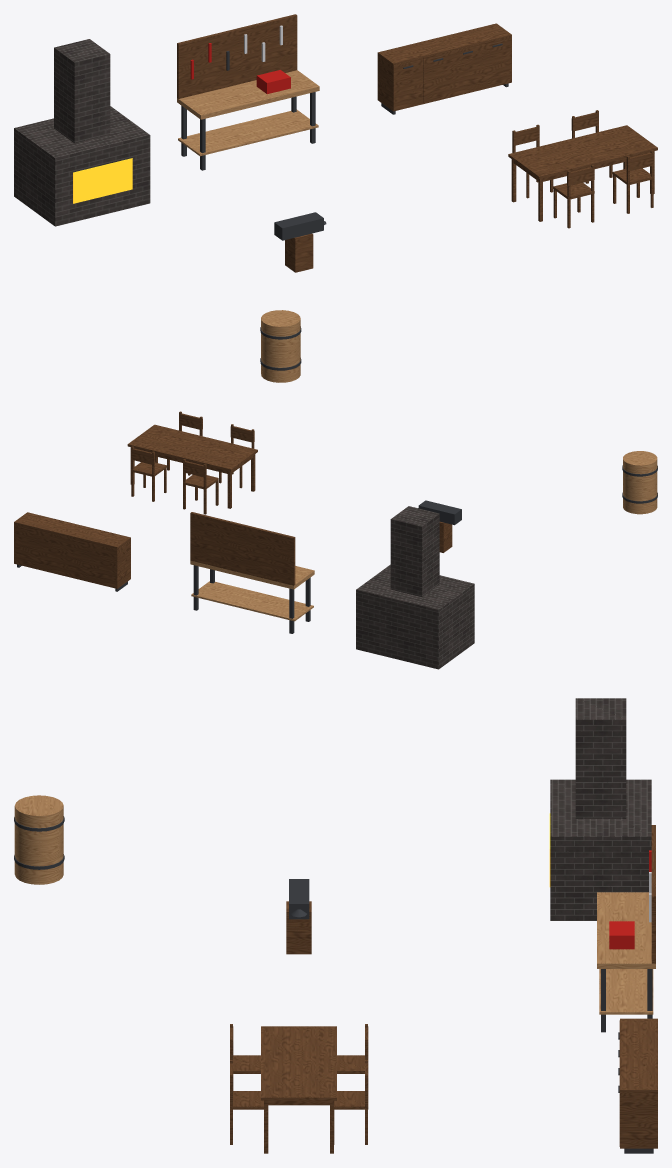
Rendered from i_dwarf_stonehall.gltf.
The picture shows the model from 3 angles, top to bottom: view 1: azimuth 30°, elevation 25°; view 2: azimuth 150°, elevation 25°; view 3: azimuth 270°, elevation 25°; orthographic projection. The views are drawn at different scales.
Visible parts, largest first — view 1: I_dwarf_stonehall; view 2: I_dwarf_stonehall; view 3: I_dwarf_stonehall.
Boxes of the visible parts, x1,y1,x2,y2 form: I_dwarf_stonehall: (14, 14, 657, 382); I_dwarf_stonehall: (14, 411, 657, 669); I_dwarf_stonehall: (14, 698, 657, 1153).
Bounding box in the file's own units: 8.17 × 2.4 × 7.63.
7 materials, 3 textured.
